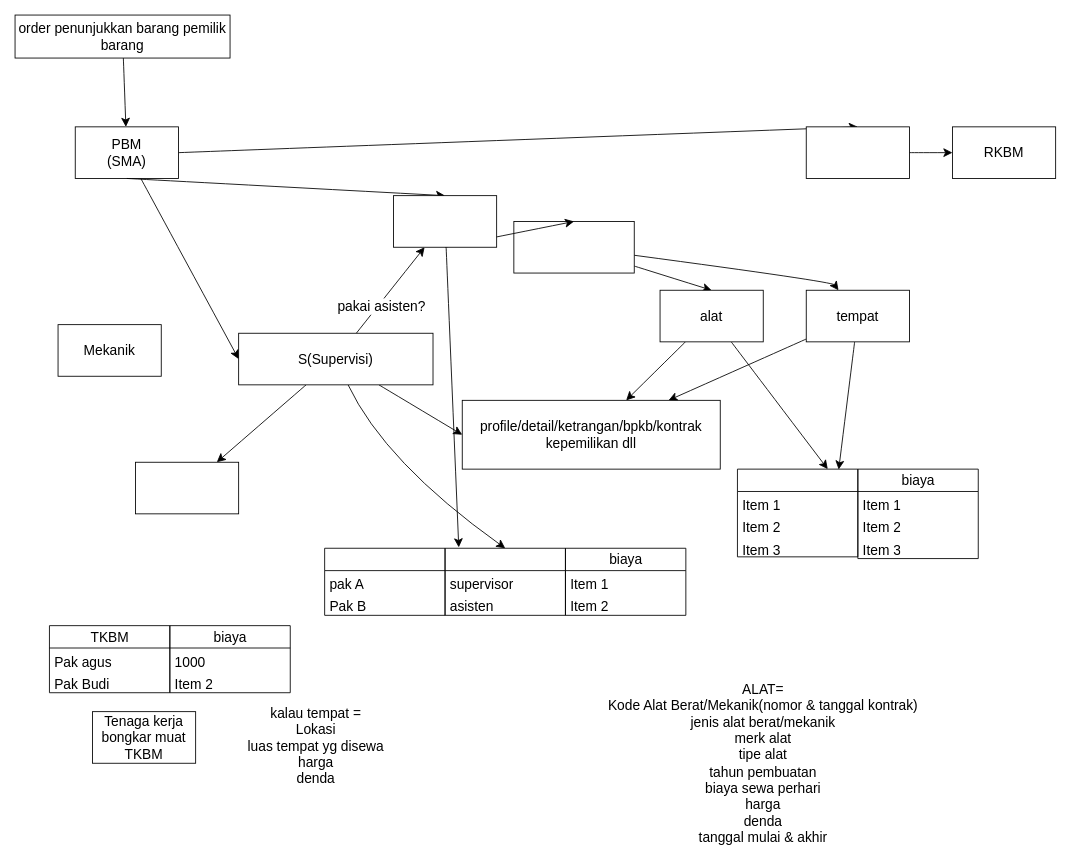
The diagram is 1071 pixels wide and 864 high, and some of its shapes have lost their labels. Here are the shapes that lost their labels. From the top down, the box of each, then its label:
(805, 126, 909, 178): administrasi
(393, 195, 497, 247): asisten supervisi
(513, 221, 634, 273): alat bongkar muat
(135, 461, 239, 514): timesheet
(737, 468, 858, 557): keterangan
(324, 547, 445, 615): nama
(444, 547, 565, 615): role
